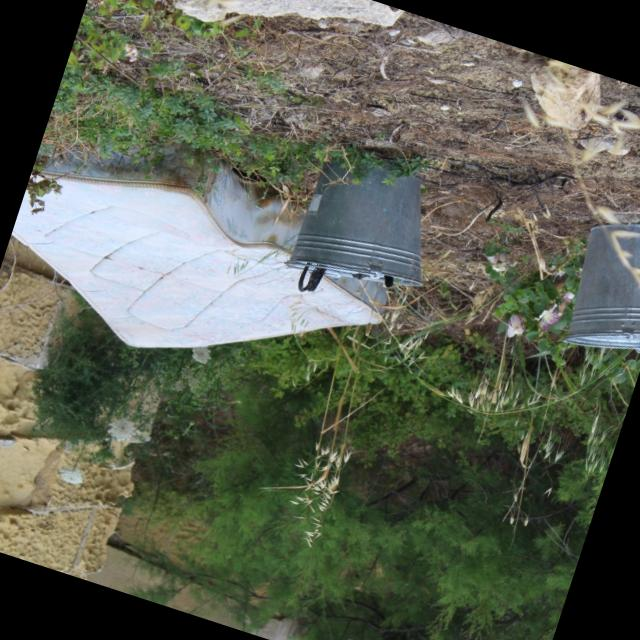Other litter: (10, 138, 386, 348)
